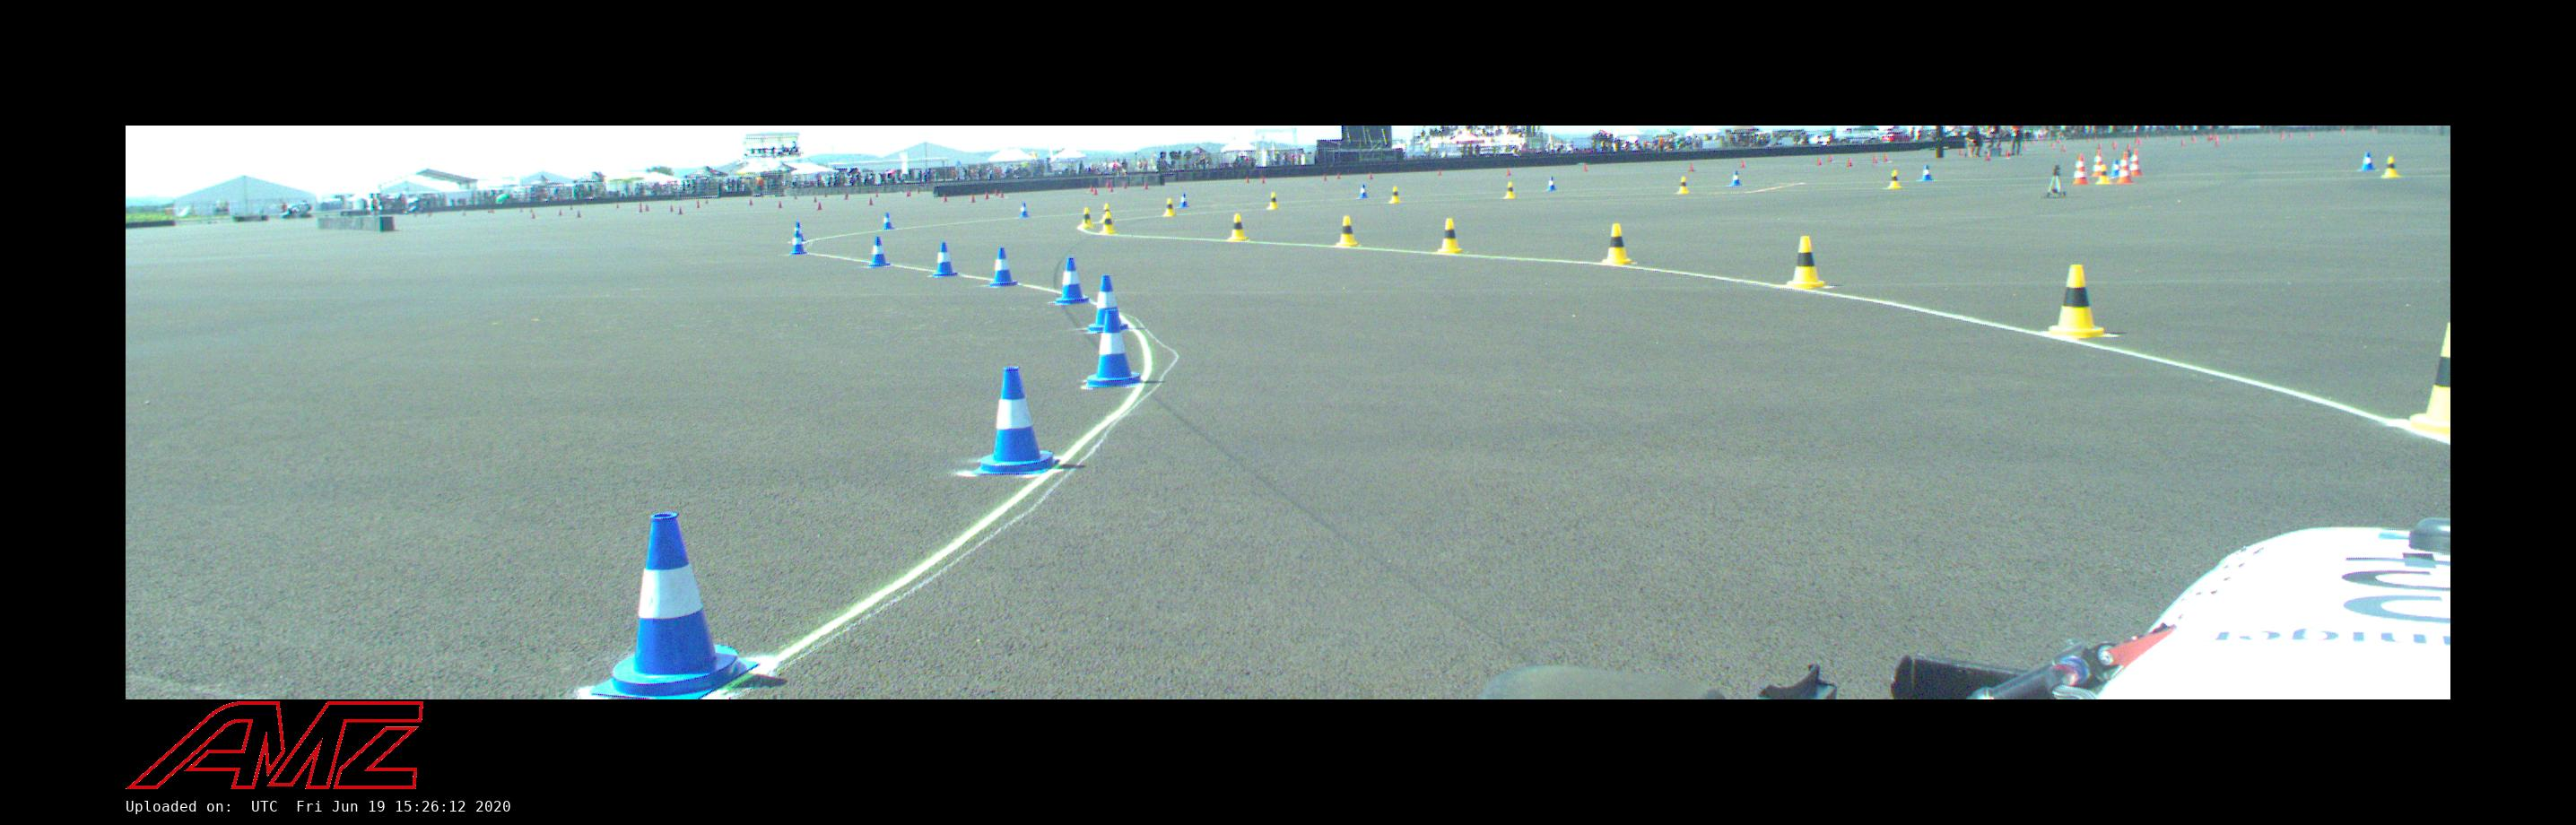blue_cone: (590, 513, 759, 698), (973, 366, 1060, 473), (1086, 309, 1143, 388), (1088, 276, 1129, 332), (1055, 258, 1094, 306), (989, 248, 1019, 286), (928, 242, 958, 278), (866, 238, 890, 266), (789, 232, 807, 253), (2357, 153, 2377, 171), (1917, 166, 1937, 181), (2109, 156, 2121, 179), (881, 212, 894, 230), (793, 222, 805, 242), (1728, 171, 1743, 186), (1355, 184, 1368, 200), (1544, 176, 1557, 191), (1019, 202, 1030, 219), (1178, 194, 1189, 209)
large_orange_cone: (2114, 153, 2132, 184), (2072, 154, 2086, 184), (2091, 151, 2108, 177), (2129, 150, 2142, 176)
yellow_cone: (2407, 324, 2449, 434), (2047, 266, 2103, 339), (1786, 237, 1824, 289), (1602, 224, 1633, 266), (1438, 219, 1462, 253), (1336, 217, 1359, 247), (1227, 215, 1247, 240), (2382, 156, 2397, 176), (1079, 209, 1094, 228), (1101, 212, 1114, 233), (1267, 192, 1280, 210), (2096, 164, 2109, 182), (1888, 171, 1901, 187), (1097, 204, 1111, 220), (1390, 186, 1401, 204), (1503, 182, 1516, 197), (1677, 177, 1690, 192), (1165, 199, 1175, 217)
